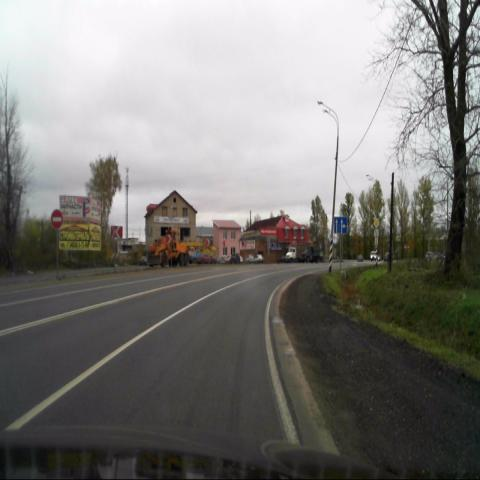3_1: (52, 208, 62, 228)
